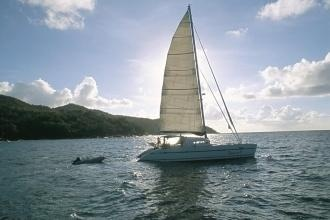fanchuan: (134, 3, 267, 166)
otherboat: (69, 145, 118, 168)
